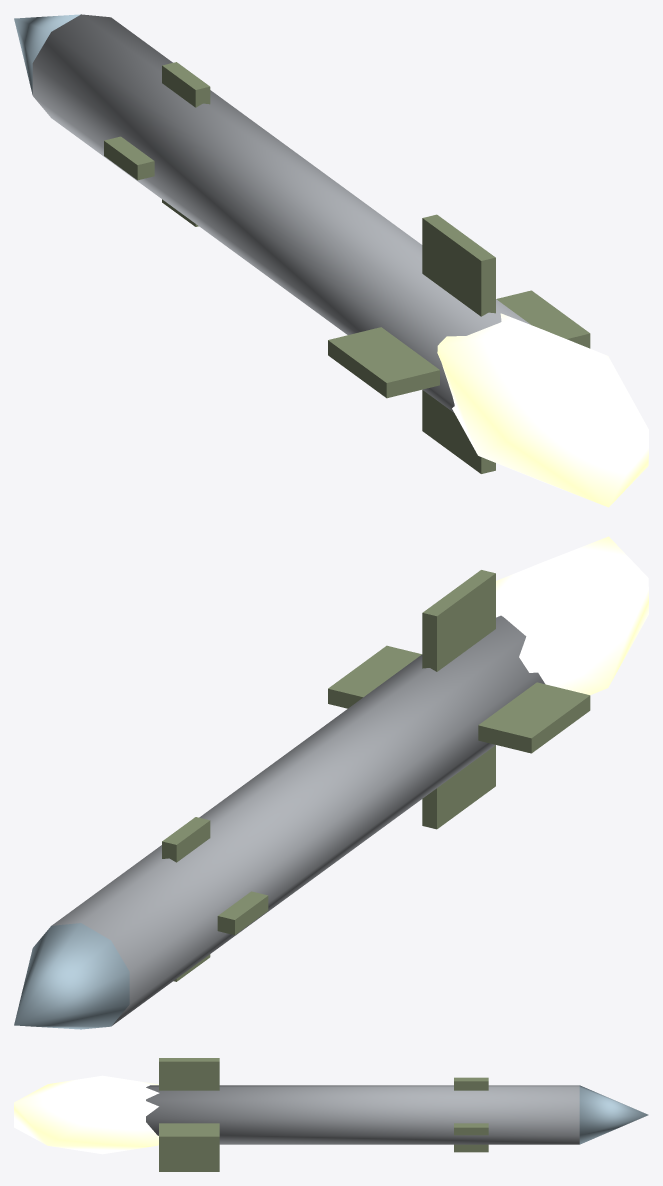
File: missile.gltf
3 renders of one model, top to bottom at view 1: azimuth 30°, elevation 25°; view 2: azimuth 150°, elevation 25°; view 3: azimuth 270°, elevation 25°, orthographic. The views are drawn at different scales.
Parts seen in each view (by area): view 1: missile; view 2: missile; view 3: missile.
Part boxes in pixels (x1,y1,x2,y2): missile: [14, 14, 648, 507]; missile: [14, 536, 648, 1029]; missile: [14, 1058, 648, 1171].
Size of the model in its own units: 0.28 by 0.28 by 1.46.
